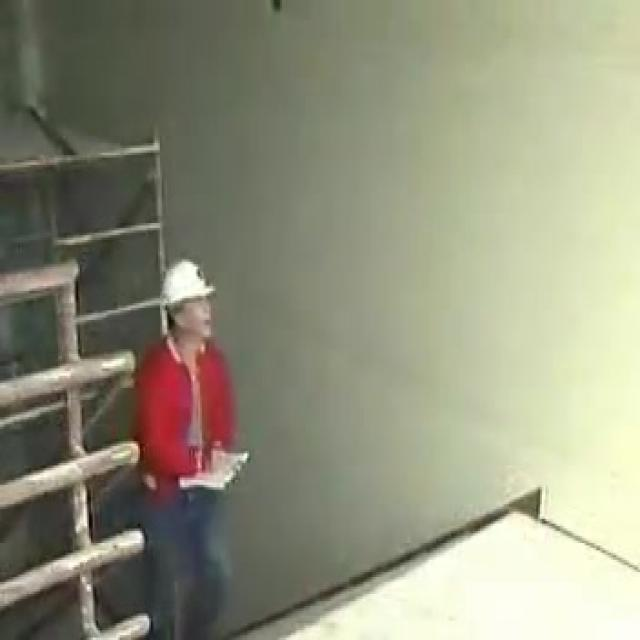Reflective-Jacket: (104, 332, 251, 526)
Safety-Helmet: (149, 247, 226, 325)
